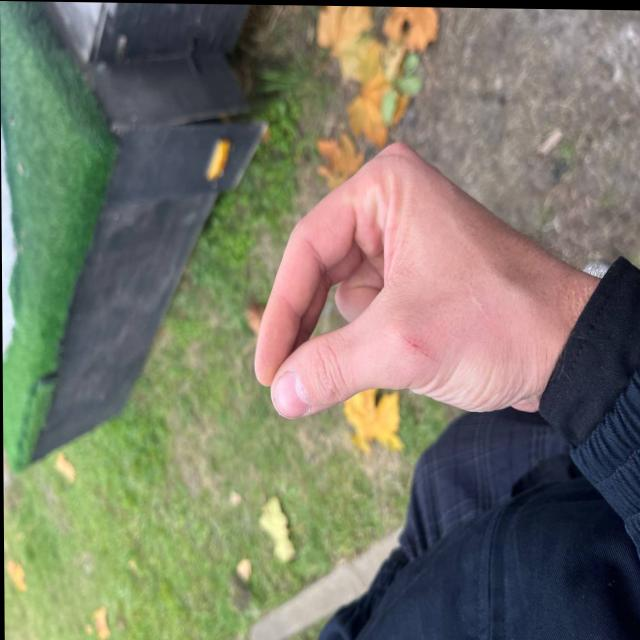ch: (208, 147, 498, 439)
